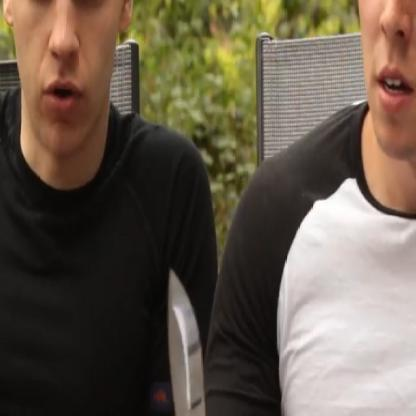knife: (150, 248, 240, 415)
